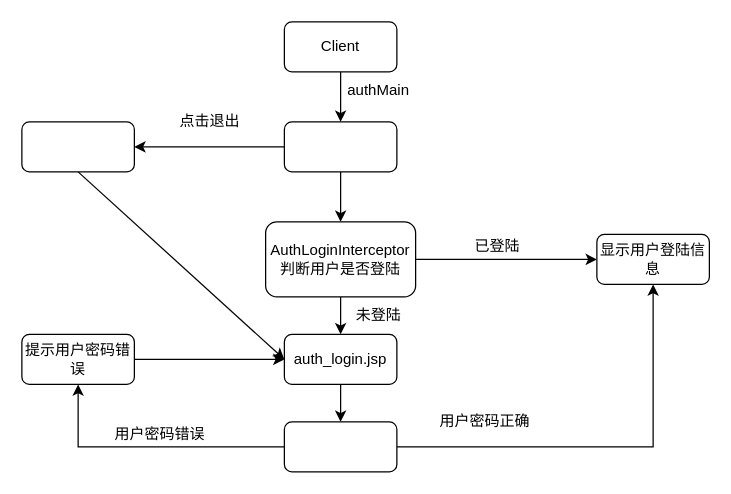
Some shapes in this 731 by 494 pixel diagram are drawn without their labels. The shapes that lost their labels are listed below. From the top down, each one's box as (x1, y1, x2, y2) in pixels, then its label:
(21, 121, 134, 172): 用户退出登陆
(283, 121, 397, 172): 访问主页
(283, 421, 397, 472): Controller
